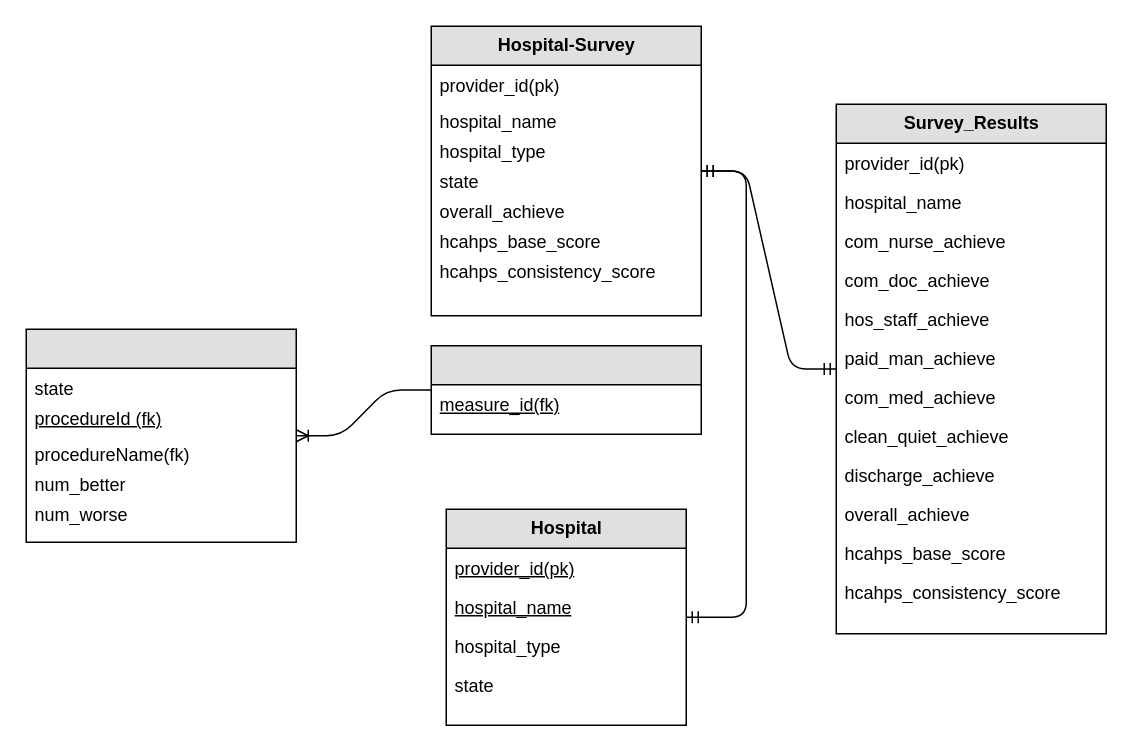
Image size: 1133x752. Some labels were removed from this diagram. The box of each missing label's shape, as (x1, y1, x2, y2) in pixels:
Procedures: (430, 344, 701, 434)
State-Procedures: (25, 328, 296, 542)
